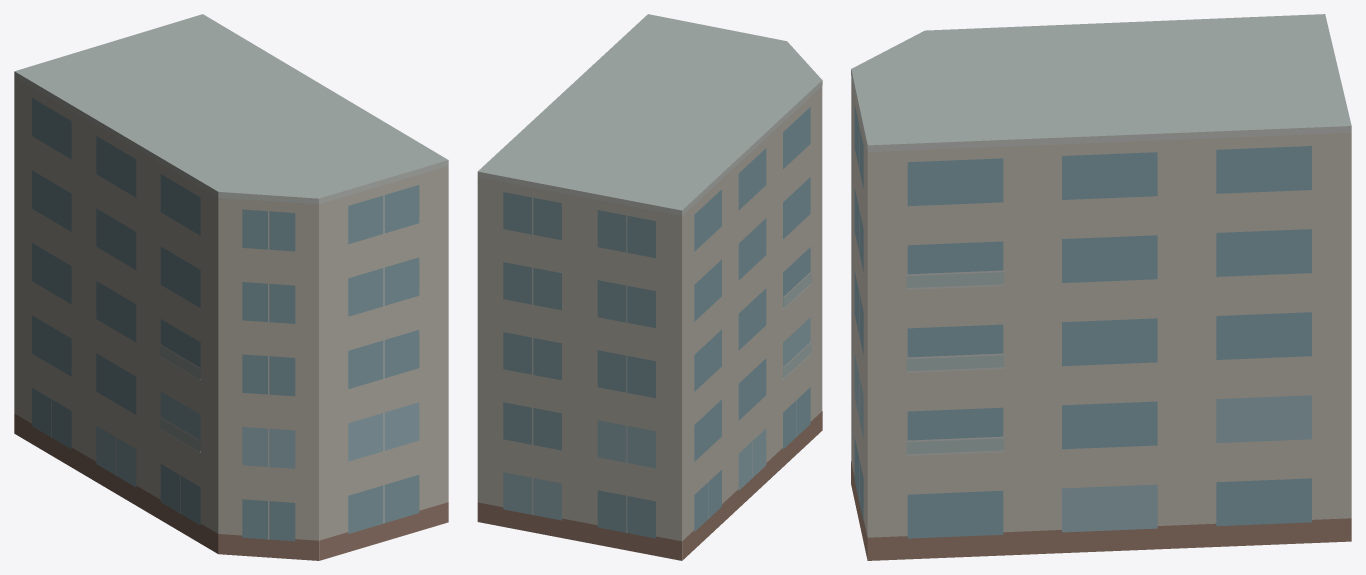
Rendered from survey-upis-32699926.glb.
3 views of the same model, side by side, from view 1: azimuth 30°, elevation 25°; view 2: azimuth 150°, elevation 25°; view 3: azimuth 270°, elevation 25° (orthographic). The views are drawn at different scales.
Visible parts, largest first — view 1: survey-upis-32699926.tmp; view 2: survey-upis-32699926.tmp; view 3: survey-upis-32699926.tmp.
Part boxes in pixels (<box>): survey-upis-32699926.tmp: <box>14,14,448,560</box>; survey-upis-32699926.tmp: <box>477,14,822,560</box>; survey-upis-32699926.tmp: <box>851,14,1351,560</box>.
Bounding box in the file's own units: 10.35 × 15.25 × 16.66.
